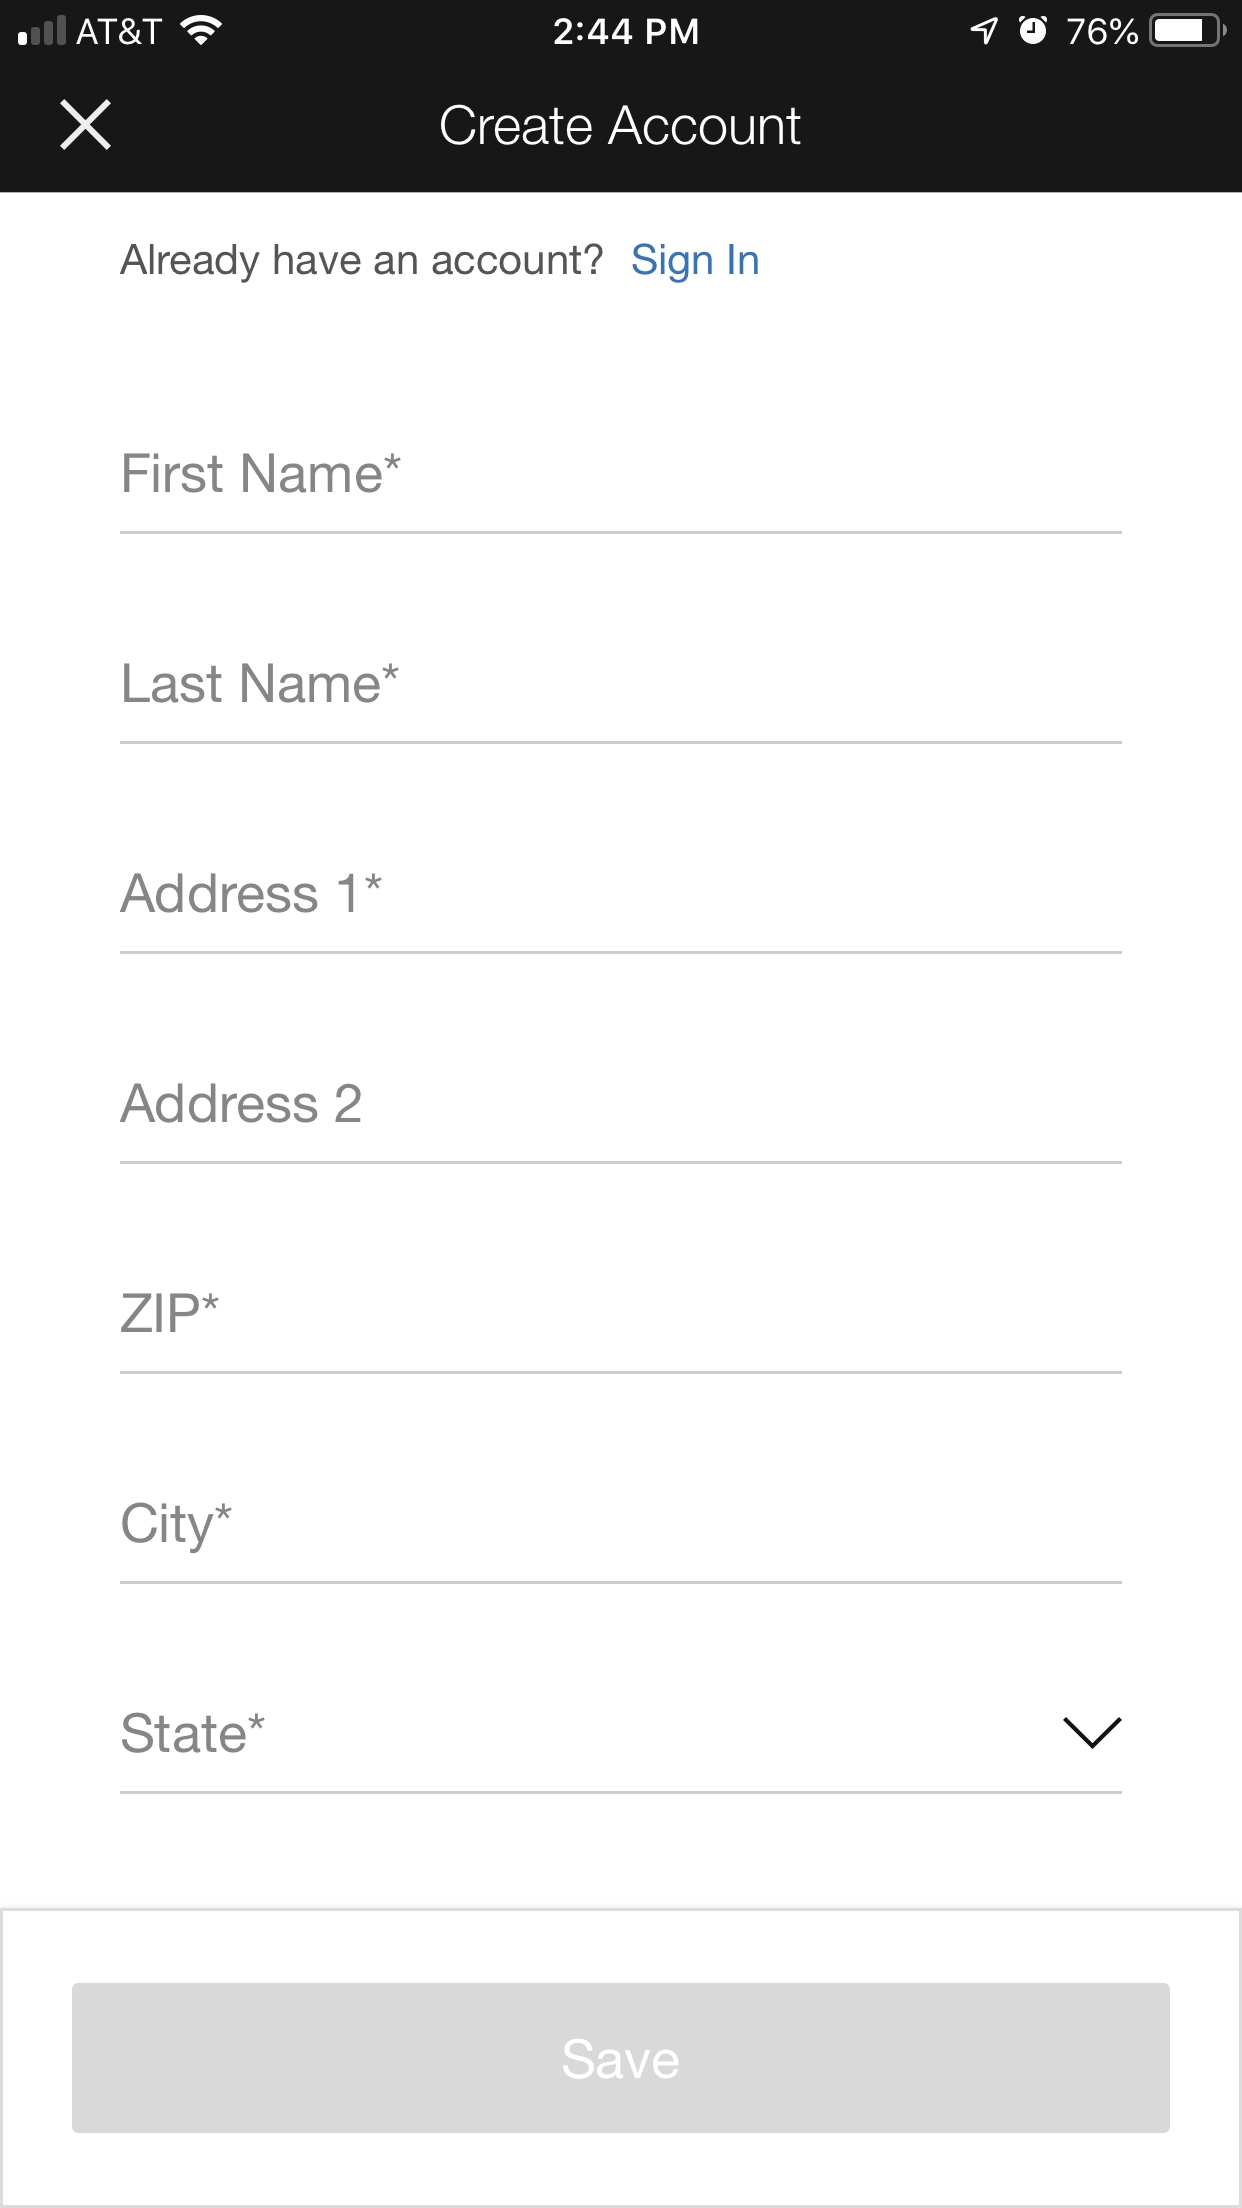EditText: (120, 1712, 1124, 1796), (120, 1501, 1124, 1585), (120, 1292, 1124, 1375), (120, 1081, 1124, 1165), (120, 872, 1124, 955), (120, 663, 1124, 745), (120, 453, 1124, 535)
Icon: (61, 99, 114, 152), (1063, 1717, 1124, 1750)
Text: (120, 243, 604, 285), (441, 105, 802, 147), (121, 870, 385, 914), (124, 453, 402, 494), (124, 663, 400, 704), (120, 1083, 362, 1125), (121, 1501, 234, 1554), (121, 1714, 265, 1755), (632, 243, 760, 285), (121, 1294, 220, 1335)
TextButton: (73, 1984, 1171, 2134)
UpperTaskBar: (2, 2, 1242, 49)
